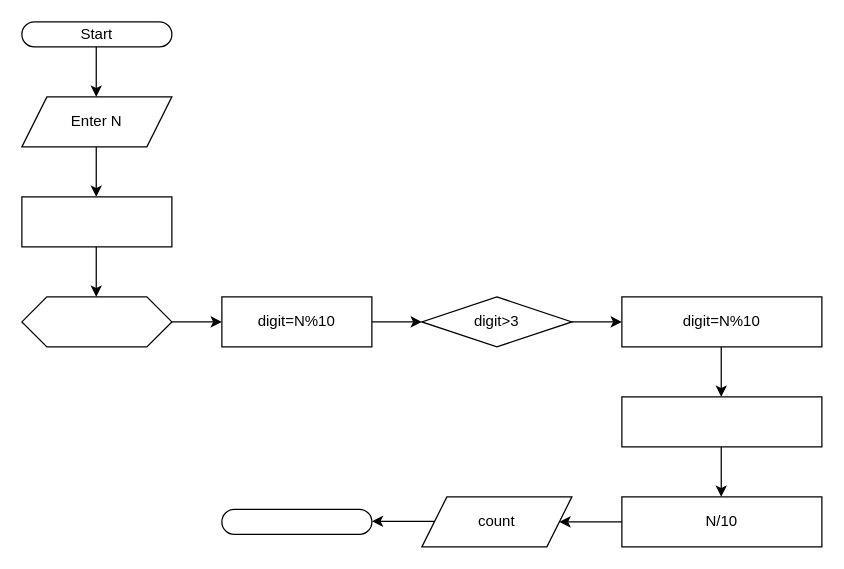
Some shapes in this 844 by 569 pixel diagram are drawn without their labels. The box of each missing label's shape, as (x1, y1, x2, y2) in pixels:
count++: (621, 396, 822, 447)
count=0: (21, 196, 172, 247)
End: (221, 508, 372, 534)
N>0: (21, 296, 172, 347)
